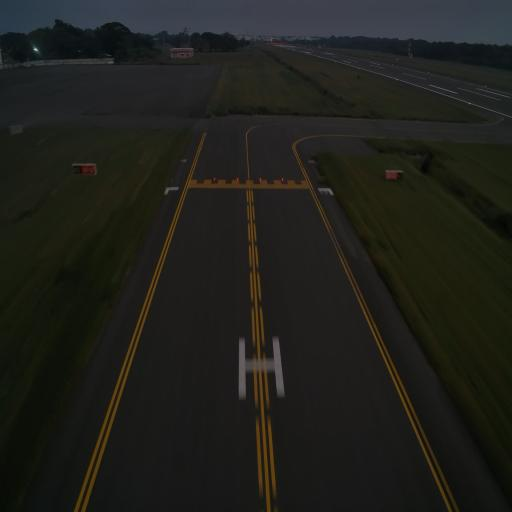on: (212, 175, 218, 184), (258, 174, 263, 184), (281, 175, 285, 184), (235, 176, 240, 183)
